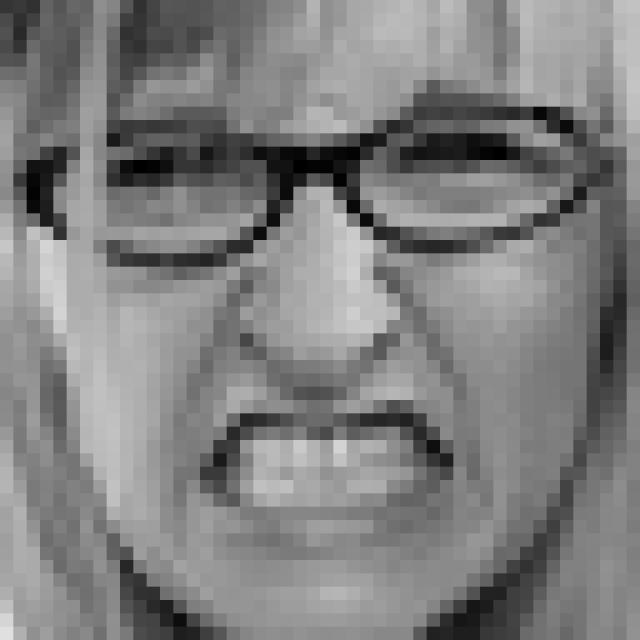angry: (104, 80, 526, 561)
